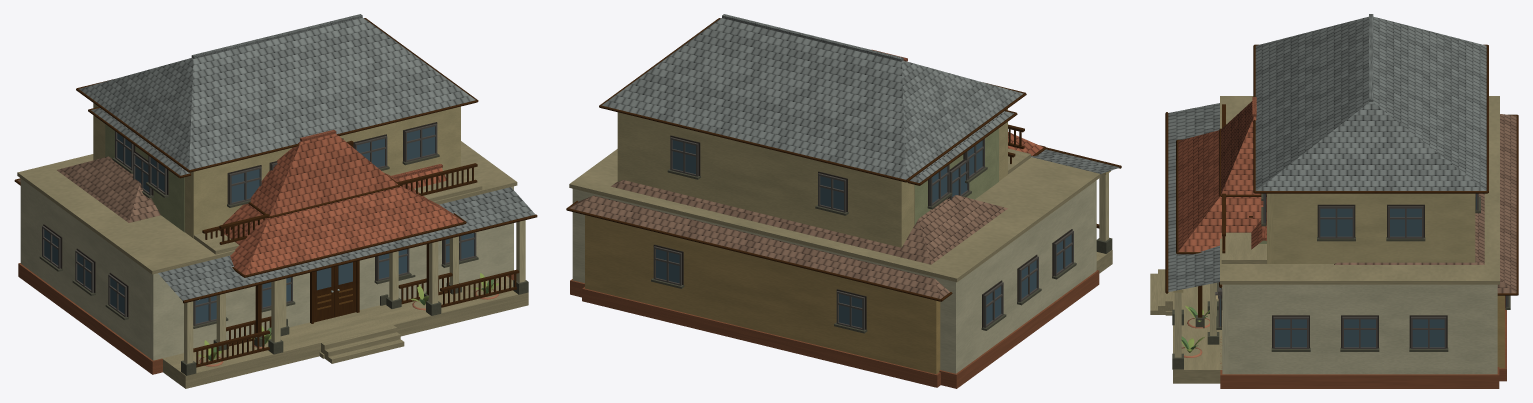
The model's file is houses.glb.
3 renders of one model, left to right at view 1: azimuth 30°, elevation 25°; view 2: azimuth 150°, elevation 25°; view 3: azimuth 270°, elevation 25°, orthographic. The views are drawn at different scales.
Visible parts, largest first — view 1: habitable_volume_Charcoal_gray_glazed_tiles (×2), habitable_volume_Ivory_exterior_render, open_pendopo_Weathered_reddish_clay_tiles, house_10_Satin_cement_terrazzo_paving, floor_slab_cap, habitable_volume_Warm_off_white_stucco, roof_tile_courses, house_10_Warm_teak_joinery, habitable_volume_Soot_brown_Javanese_clay_tiles, opaque_glazing (×5), house_10_Cream_sand_plaster, stone_foundation (+9 smaller); view 2: habitable_volume_Charcoal_gray_glazed_tiles (×2), habitable_volume_Buff_village_masonry, habitable_volume_Warm_off_white_stucco, habitable_volume_Soot_brown_Javanese_clay_tiles, habitable_volume_Ivory_exterior_render, floor_slab_cap, stone_foundation (×2), habitable_volume_Warm_teak_joinery (×2), opaque_glazing (×4), casement_window_Graphite_window_frames (×4), habitable_volume_Faded_green_limewash, roof_tile_courses (+3 smaller); view 3: habitable_volume_Charcoal_gray_glazed_tiles, habitable_volume_Ivory_exterior_render, habitable_volume_Warm_off_white_stucco, open_pendopo_Weathered_reddish_clay_tiles, floor_slab_cap, house_10_Satin_cement_terrazzo_paving, opaque_glazing (×5), roof_tile_courses, stone_foundation, habitable_volume_Soot_brown_Javanese_clay_tiles, casement_window_Graphite_window_frames (×5), habitable_volume_Warm_teak_joinery (×2) (+5 smaller).
Part boxes in pixels (<box>): habitable_volume_Charcoal_gray_glazed_tiles (×2): <box>79,14,475,175</box>; habitable_volume_Ivory_exterior_render: <box>20,178,513,360</box>; open_pendopo_Weathered_reddish_clay_tiles: <box>219,130,463,275</box>; house_10_Satin_cement_terrazzo_paving: <box>162,170,528,388</box>; floor_slab_cap: <box>17,141,517,274</box>; habitable_volume_Warm_off_white_stucco: <box>93,103,460,238</box>; roof_tile_courses: <box>158,187,535,300</box>; house_10_Warm_teak_joinery: <box>183,163,537,367</box>; habitable_volume_Soot_brown_Javanese_clay_tiles: <box>17,156,160,222</box>; opaque_glazing (×5): <box>195,126,435,323</box>; house_10_Cream_sand_plaster: <box>184,220,525,363</box>; stone_foundation: <box>18,263,514,374</box>; habitable_volume_Charcoal_gray_glazed_tiles (×2): <box>602,14,1023,182</box>; habitable_volume_Buff_village_masonry: <box>585,215,940,374</box>; habitable_volume_Warm_off_white_stucco: <box>617,109,1007,247</box>; habitable_volume_Soot_brown_Javanese_clay_tiles: <box>569,180,1007,298</box>; habitable_volume_Ivory_exterior_render: <box>572,180,1096,373</box>; floor_slab_cap: <box>569,149,1100,282</box>; stone_foundation (×2): <box>570,270,1099,388</box>; habitable_volume_Warm_teak_joinery (×2): <box>566,18,1026,301</box>; opaque_glazing (×4): <box>656,140,862,327</box>; casement_window_Graphite_window_frames (×4): <box>653,137,864,330</box>; habitable_volume_Faded_green_limewash: <box>914,128,998,224</box>; roof_tile_courses: <box>1031,149,1119,174</box>; habitable_volume_Charcoal_gray_glazed_tiles: <box>1255,14,1486,190</box>; habitable_volume_Ivory_exterior_render: <box>1222,284,1497,374</box>; habitable_volume_Warm_off_white_stucco: <box>1267,193,1475,263</box>; open_pendopo_Weathered_reddish_clay_tiles: <box>1178,97,1266,251</box>; floor_slab_cap: <box>1220,96,1499,284</box>; house_10_Satin_cement_terrazzo_paving: <box>1150,125,1266,383</box>; opaque_glazing (×5): <box>1275,208,1444,347</box>; roof_tile_courses: <box>1168,103,1219,291</box>; stone_foundation: <box>1220,337,1499,388</box>; habitable_volume_Soot_brown_Javanese_clay_tiles: <box>1334,114,1516,293</box>; casement_window_Graphite_window_frames (×5): <box>1273,206,1446,348</box>; habitable_volume_Warm_teak_joinery (×2): <box>1253,44,1518,295</box>.
Size of the model in its own units: 13.83 by 8.5 by 11.45.
Materials: 24 (16 with a texture image).
